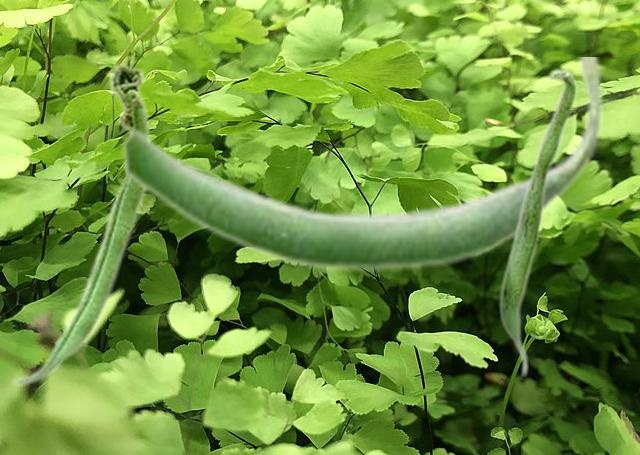french_bean: (120, 57, 604, 274), (11, 61, 150, 386), (498, 67, 577, 378)
